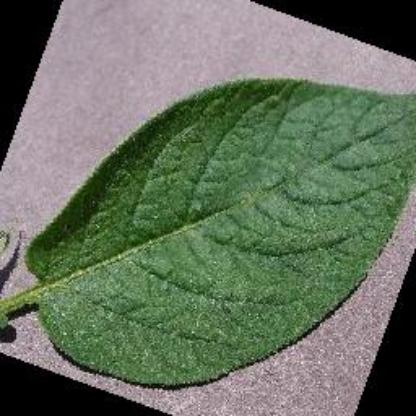Healthy-plant: (3, 41, 414, 410)
